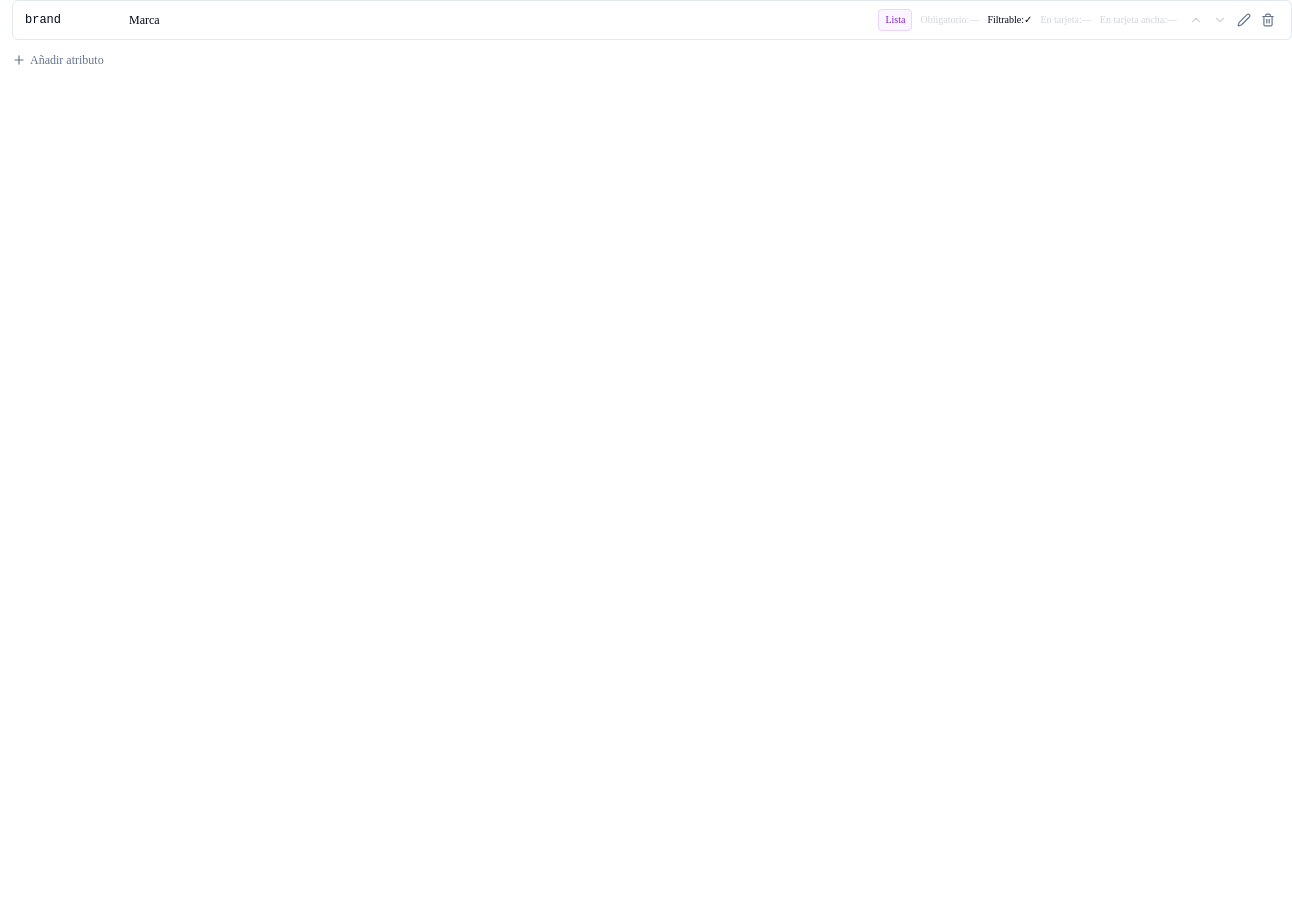
Test: AttributeSchemaEditor — selects vinculados (dependsOn / optionsByParent) › dependsOn sin ninguna opción rellenada en optionsByParent → error de validación, no guarda
Click the button with test id "add-attribute-btn". click: point(58, 60)
box: [12,52,104,68]
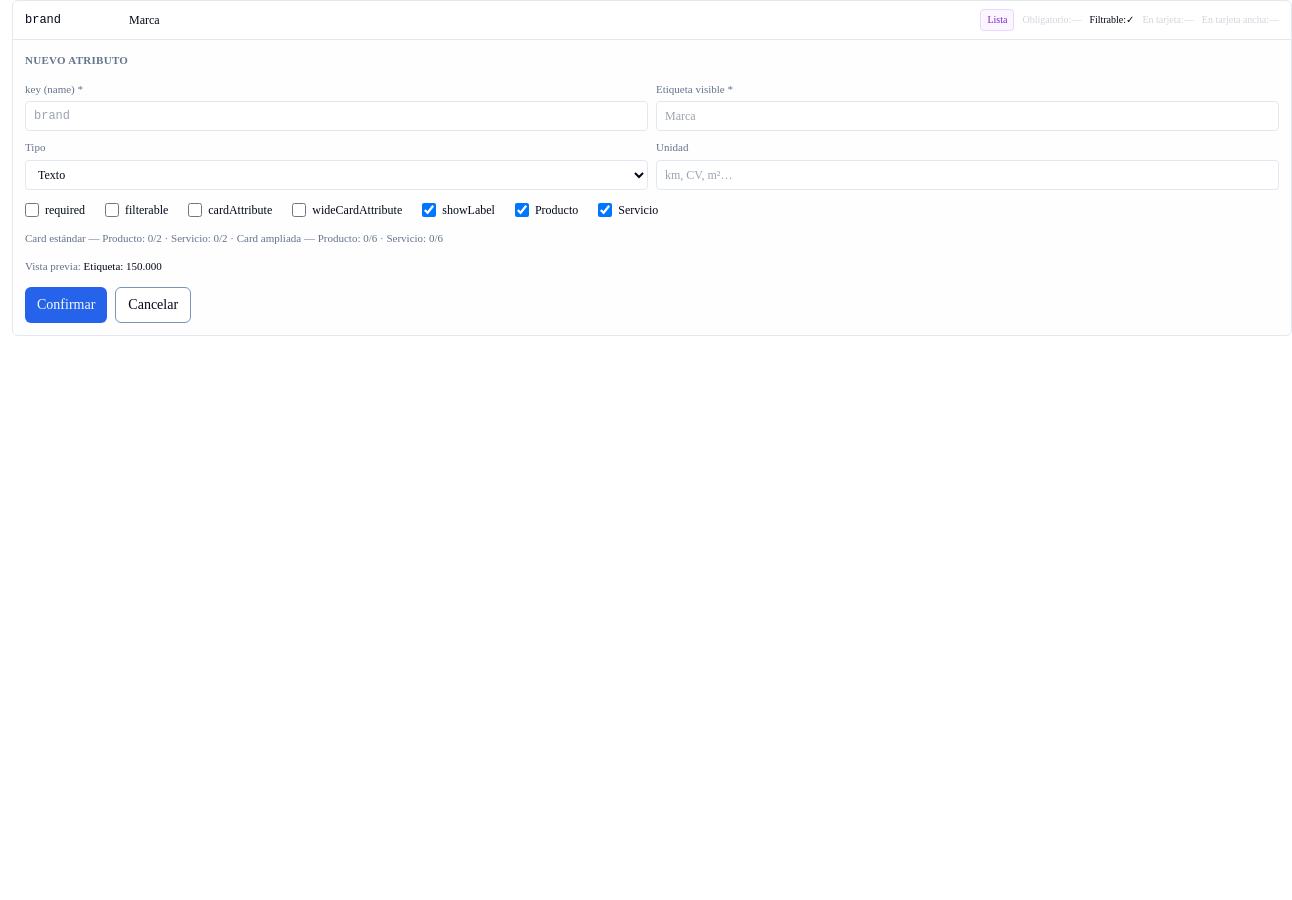
Type "model" into the field with test id "attr-name-input". click: point(336, 116)
box: [25,101,648,131]
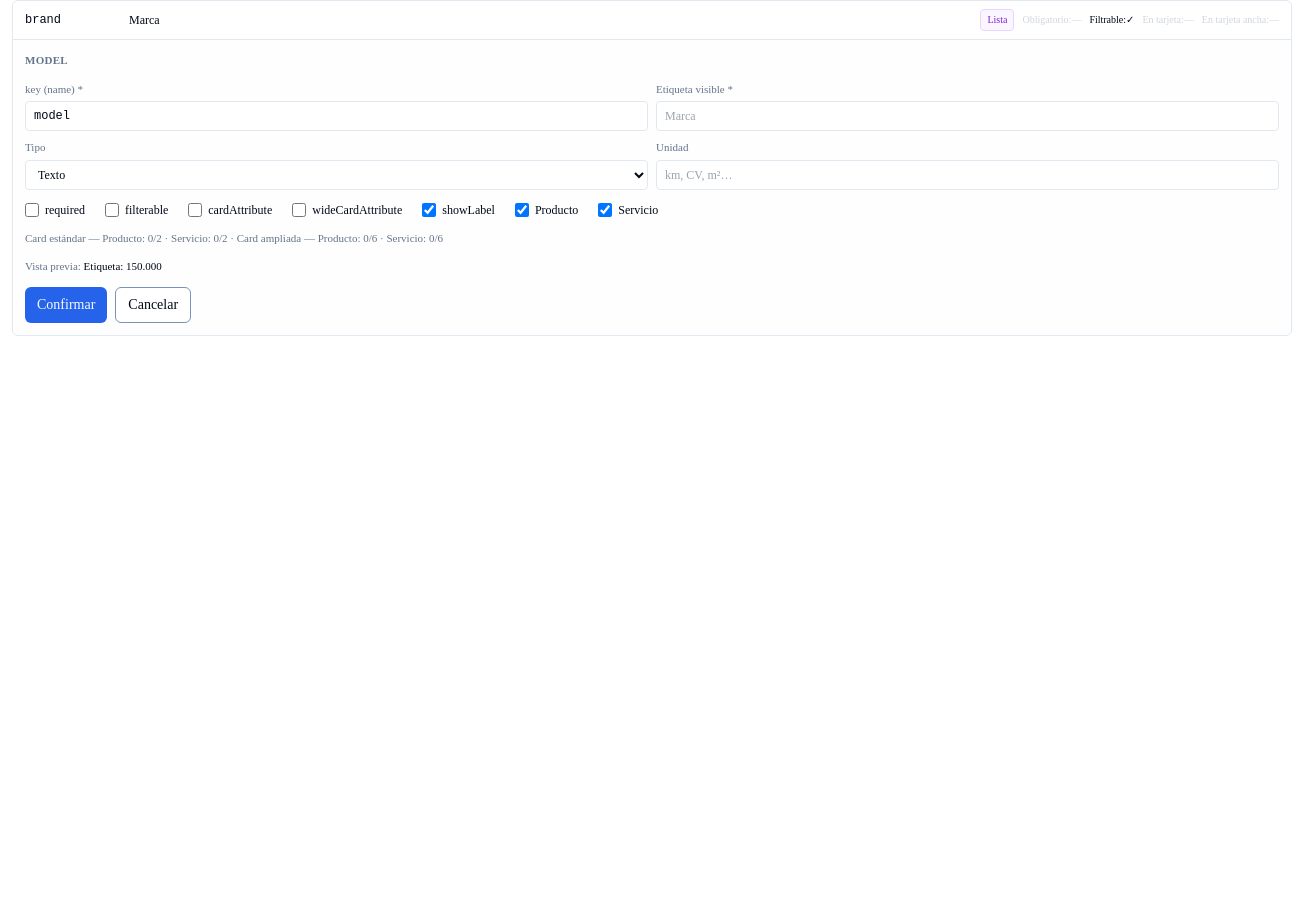
Type "Modelo" into the field with test id "attr-label-input". click: point(968, 116)
box: [656,101,1279,131]
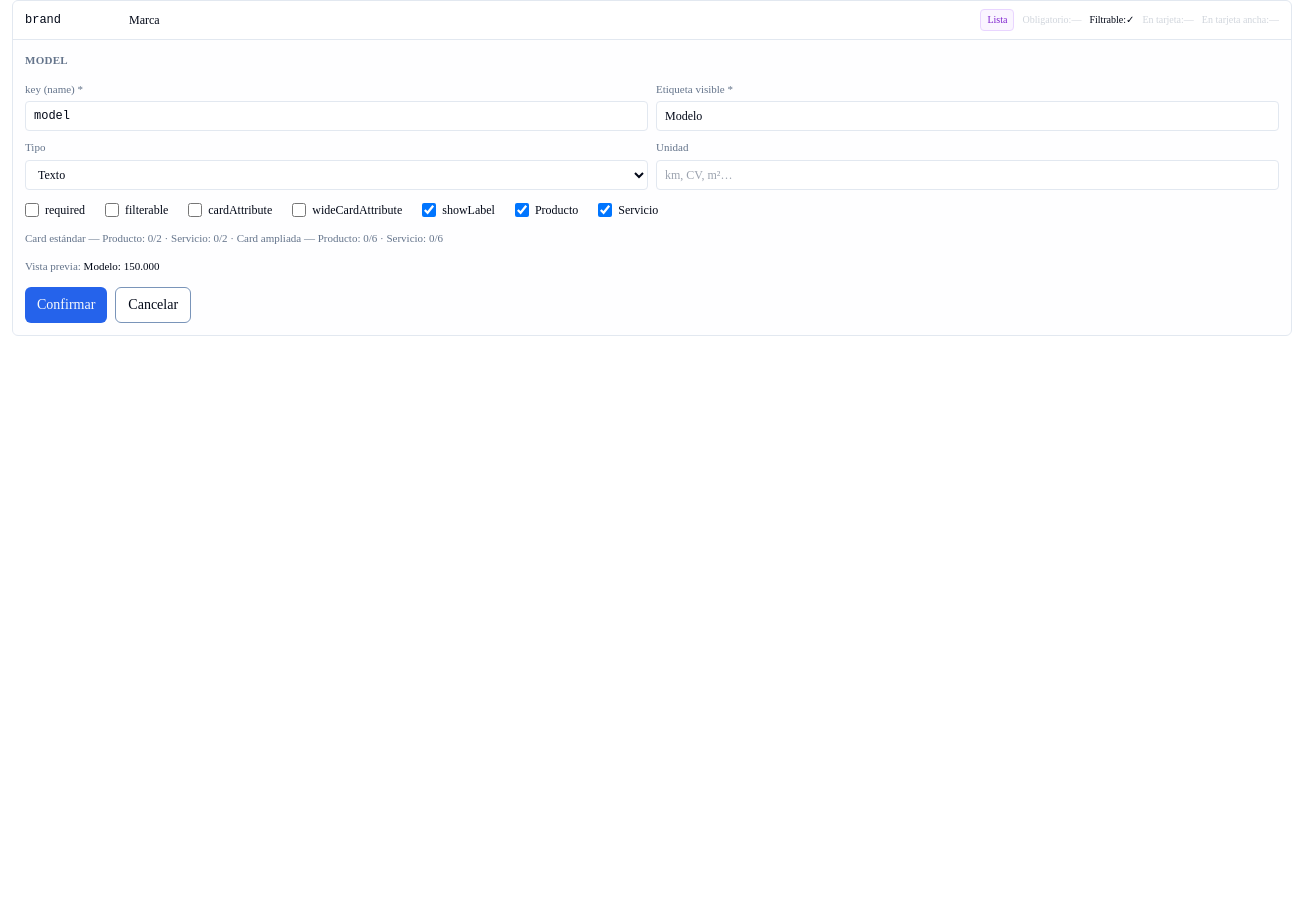
Select "Lista" in the dropdown with test id "attr-type-select". click: point(336, 174)
box: [25,160,648,190]
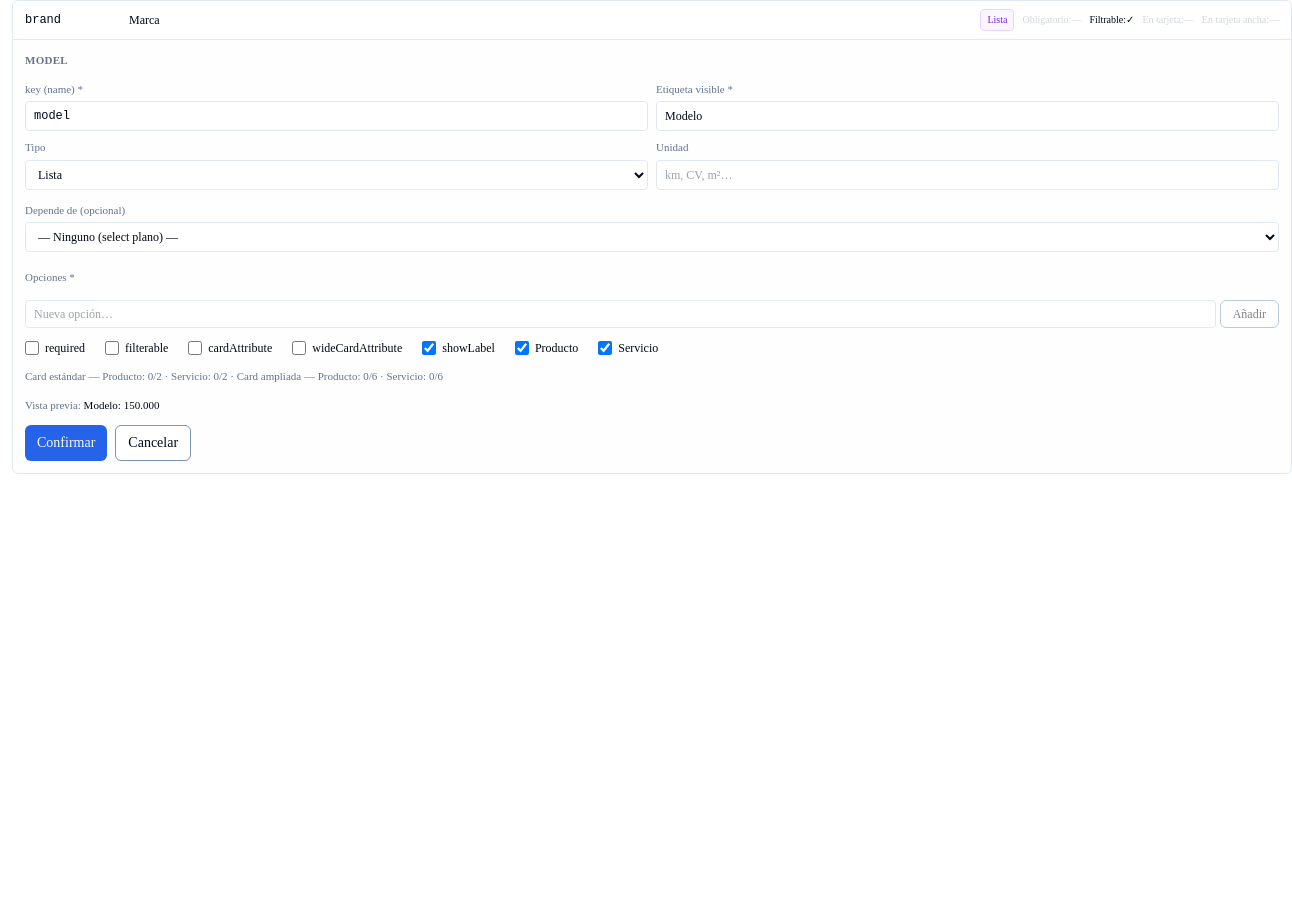
Select "Marca (brand)" in the dropdown with test id "attr-depends-on-select". click: point(652, 237)
box: [25,222,1279,252]
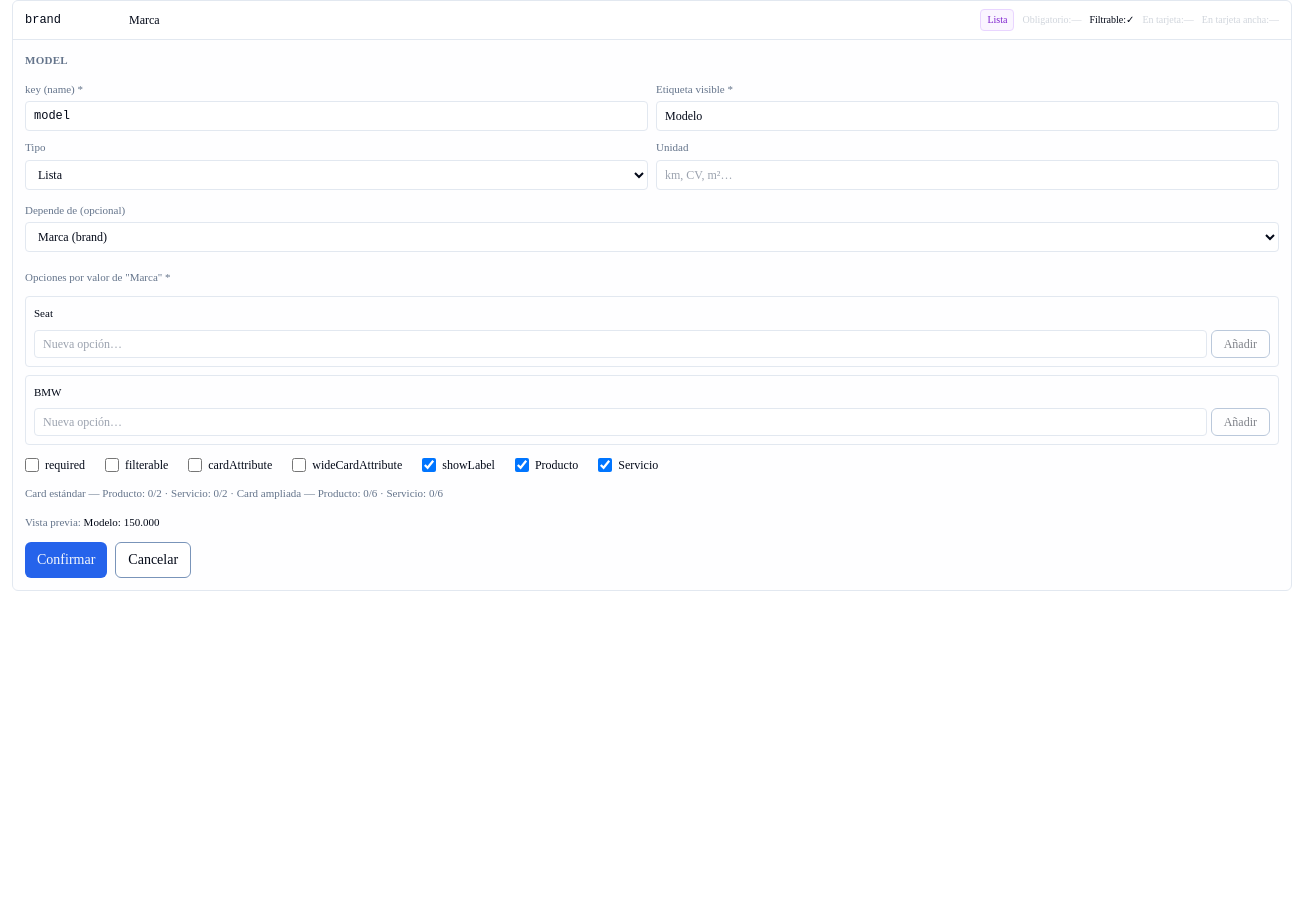
Click the button with test id "attr-confirm-btn". click: point(66, 560)
box: [25,542,107,578]
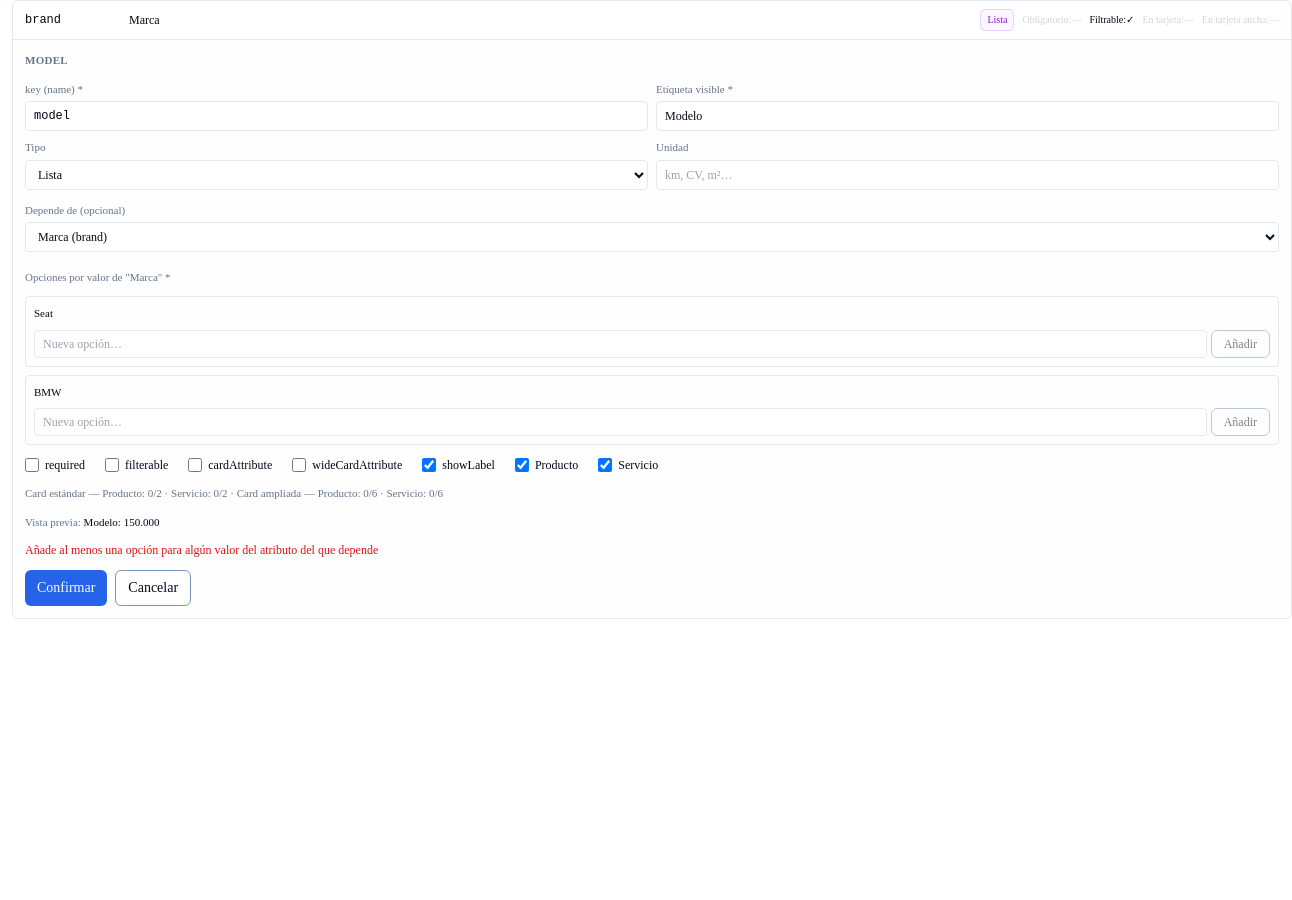
Result: the list item "Añade al menos una opción para algún valor del atributo del que depende" is shown at [25,543,378,557]
